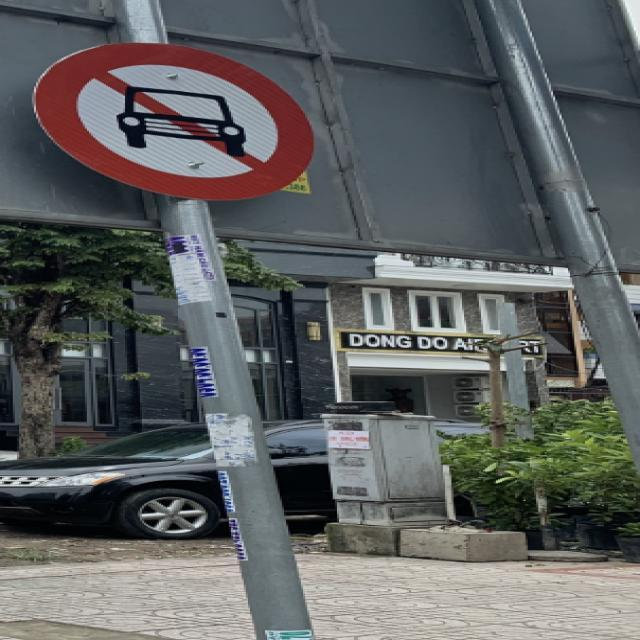103a-cam-oto: (26, 41, 314, 200)
